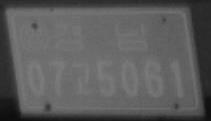0: (119, 58, 141, 98), (26, 58, 46, 98)
1: (165, 57, 188, 98)
5: (94, 59, 116, 98)
6: (142, 57, 165, 99)
7: (46, 59, 67, 96)
경남_D: (50, 21, 151, 52)
고: (70, 60, 94, 96)
영: (18, 18, 50, 54)
